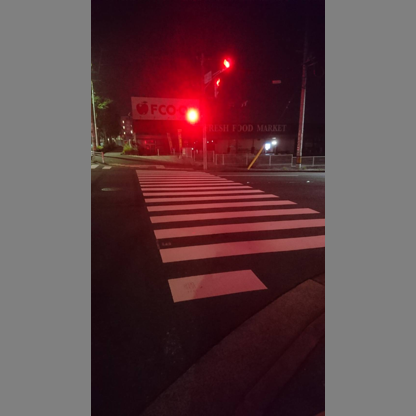crosswalk: (130, 165, 322, 303)
